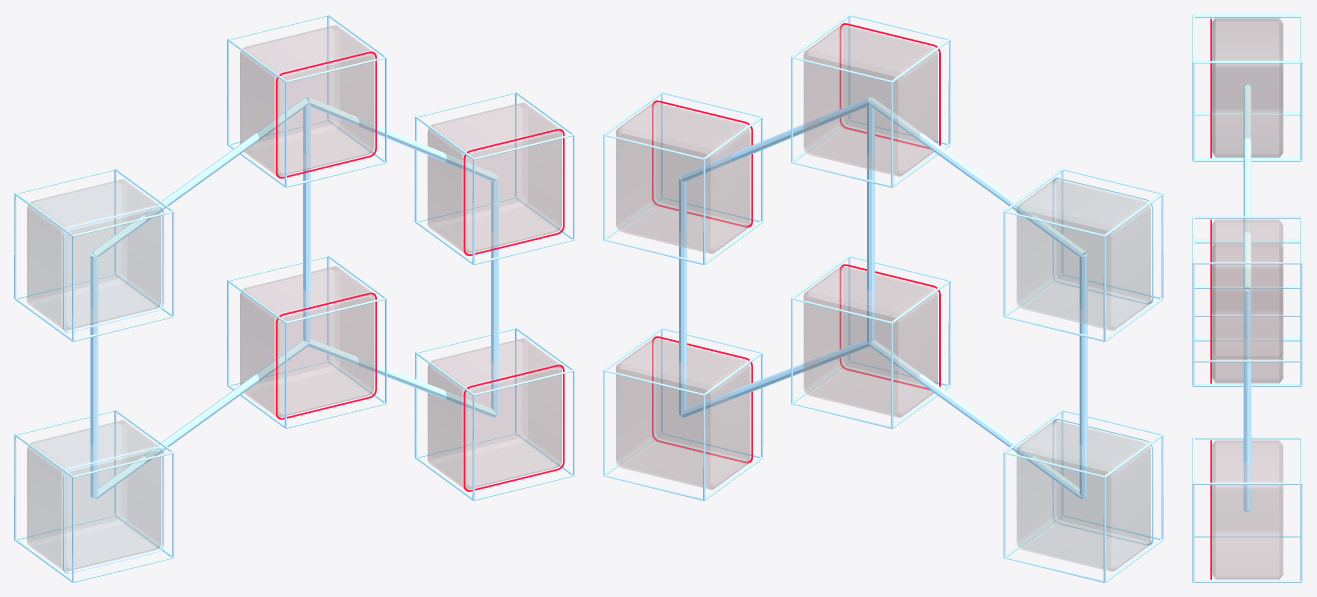
Rendered from 32-data-model.glb.
The picture shows the model from 3 angles, left to right: view 1: azimuth 30°, elevation 25°; view 2: azimuth 150°, elevation 25°; view 3: azimuth 270°, elevation 25°; orthographic projection. The views are drawn at different scales.
Parts seen in each view (by area): view 1: BC subtle ruby technical glass, BC thin clear technical glass, BC cool glass edge, BC ruby signal edge; view 2: BC subtle ruby technical glass, BC thin clear technical glass, BC cool glass edge, BC ruby signal edge; view 3: BC subtle ruby technical glass, BC cool glass edge, BC thin clear technical glass, BC ruby signal edge.
Boxes of the visible parts, x1=… form: BC subtle ruby technical glass: x1=240, y1=25, x2=561, y2=489; BC thin clear technical glass: x1=27, y1=179, x2=161, y2=571; BC cool glass edge: x1=14, y1=14, x2=574, y2=582; BC ruby signal edge: x1=276, y1=51, x2=564, y2=491; BC subtle ruby technical glass: x1=616, y1=25, x2=937, y2=489; BC thin clear technical glass: x1=1016, y1=179, x2=1150, y2=571; BC cool glass edge: x1=603, y1=14, x2=1163, y2=582; BC ruby signal edge: x1=652, y1=23, x2=940, y2=463; BC subtle ruby technical glass: x1=1212, y1=19, x2=1283, y2=579; BC cool glass edge: x1=1192, y1=14, x2=1302, y2=582; BC thin clear technical glass: x1=1212, y1=17, x2=1282, y2=381; BC ruby signal edge: x1=1210, y1=18, x2=1211, y2=579.
Bounding box in the file's own units: 2.01 × 1.78 × 0.4086.
